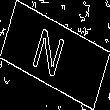N_S: (35, 24, 75, 86)
